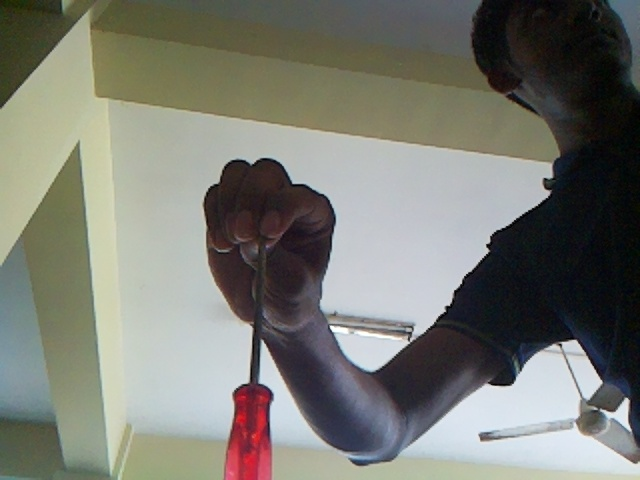redskrew: (223, 248, 278, 480)
